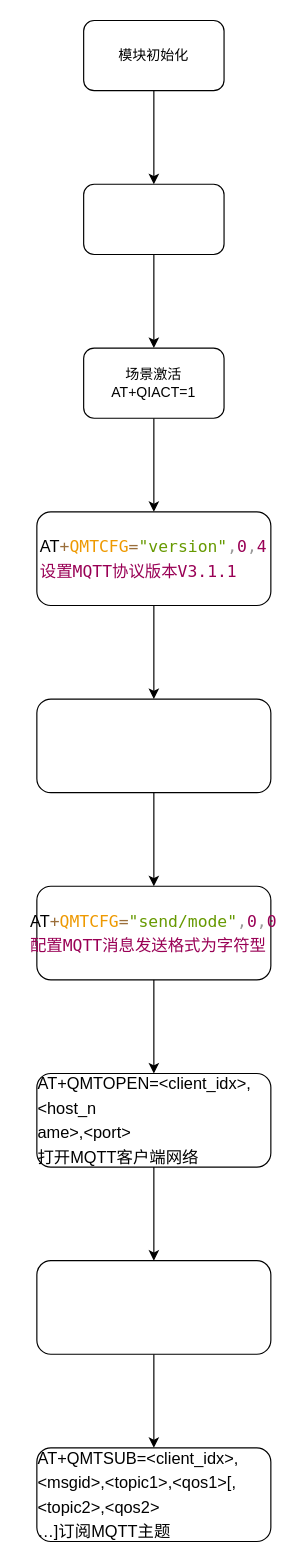
This 307x1564 diagram has some shape labels left out. Each missing label, with the box of its shape:
AT + QMTCFG = "recv/mode" , 0 , 0 , 1 设置服务器数据的接收模式，: (36, 698, 271, 793)
AT+QMTCONN=<client_idx>,<clientid >[,<username>,<password>] 连接到MQTT客户端服务器: (36, 1260, 271, 1354)
场景去激活AT+QIDEACT=1: (82, 183, 224, 254)
